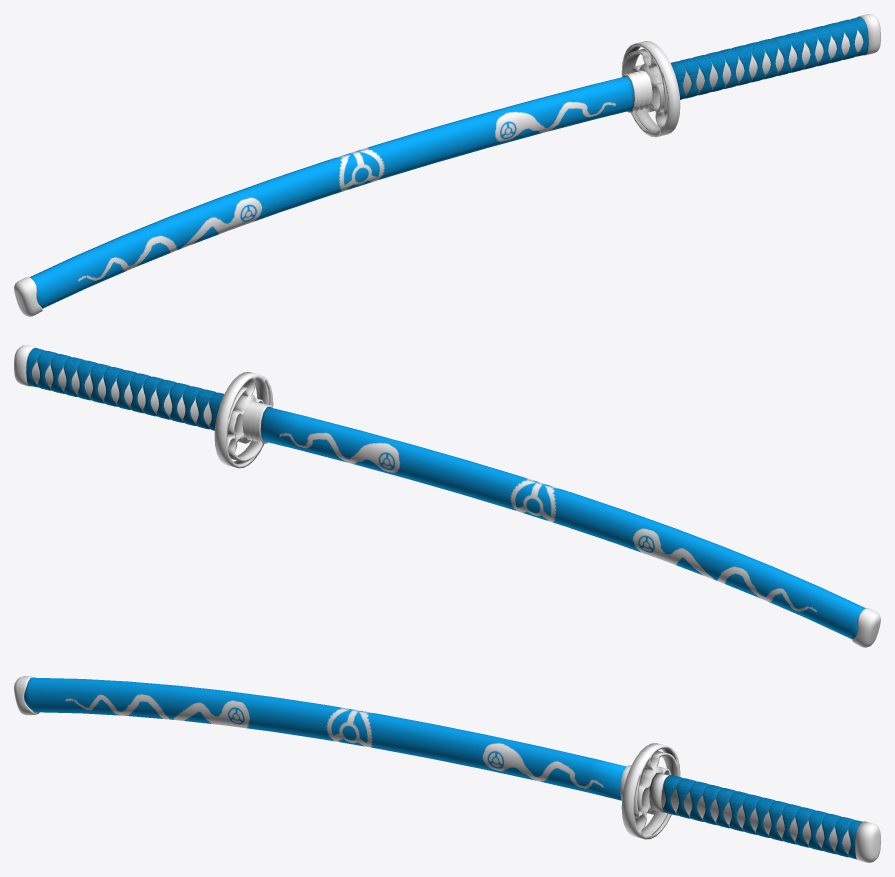
Rendered from Katana10.glb.
The picture shows the model from 3 angles, top to bottom: view 1: azimuth 30°, elevation 25°; view 2: azimuth 150°, elevation 25°; view 3: azimuth 330°, elevation 25°; orthographic projection.
Visible parts, largest first — view 1: Uploads Files 54209 Tsuba.003, Retopo_Handle Cloth.001; view 2: Uploads Files 54209 Tsuba.003, Retopo_Handle Cloth.001; view 3: Uploads Files 54209 Tsuba.003, Retopo_Handle Cloth.001.
Part boxes in pixels (bbox=[...]): Uploads Files 54209 Tsuba.003: bbox=[14, 70, 655, 316]; Retopo_Handle Cloth.001: bbox=[621, 14, 880, 137]; Uploads Files 54209 Tsuba.003: bbox=[242, 401, 880, 647]; Retopo_Handle Cloth.001: bbox=[14, 345, 273, 468]; Uploads Files 54209 Tsuba.003: bbox=[14, 676, 631, 800]; Retopo_Handle Cloth.001: bbox=[621, 743, 880, 862].
Bounding box in the file's own units: 1.01 × 0.1322 × 0.0976.
2 materials, 2 textured.
